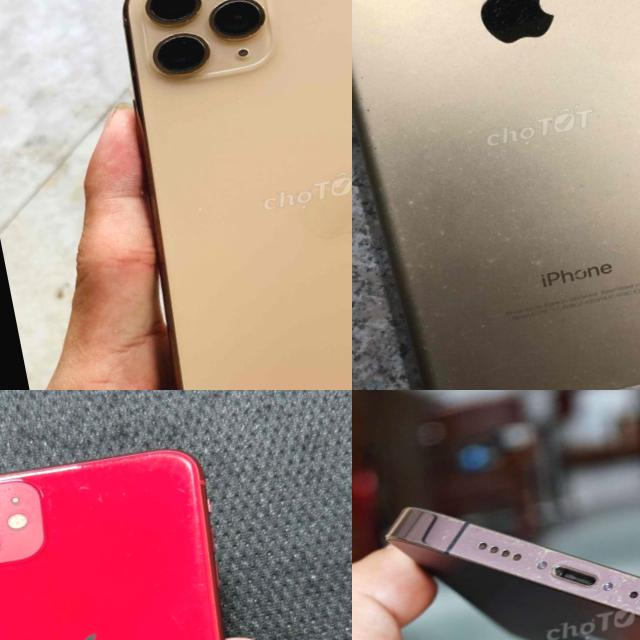gen_11: (89, 0, 352, 390), (0, 431, 282, 640)
gen_14: (357, 430, 640, 640)
gen_7_8: (352, 0, 640, 390)
scratch: (483, 509, 626, 630), (362, 167, 444, 336), (496, 210, 556, 280), (616, 544, 640, 624), (432, 514, 472, 546)
